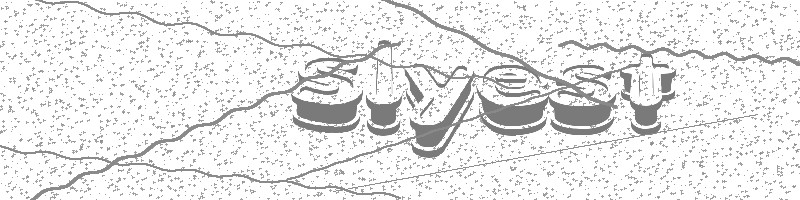e: (476, 64, 549, 136)
l: (364, 38, 402, 137)
s: (292, 52, 362, 133), (549, 63, 617, 136)
t: (618, 52, 677, 137)
y: (401, 61, 477, 158)
